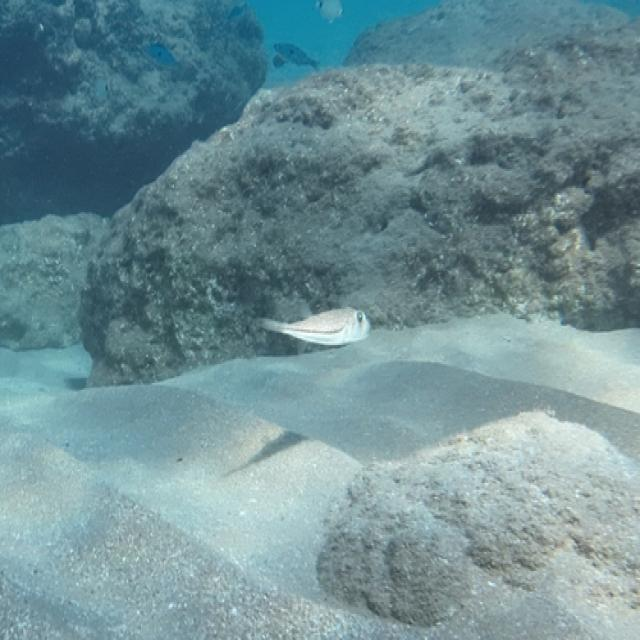Balik: (260, 308, 371, 346), (273, 44, 318, 69)
